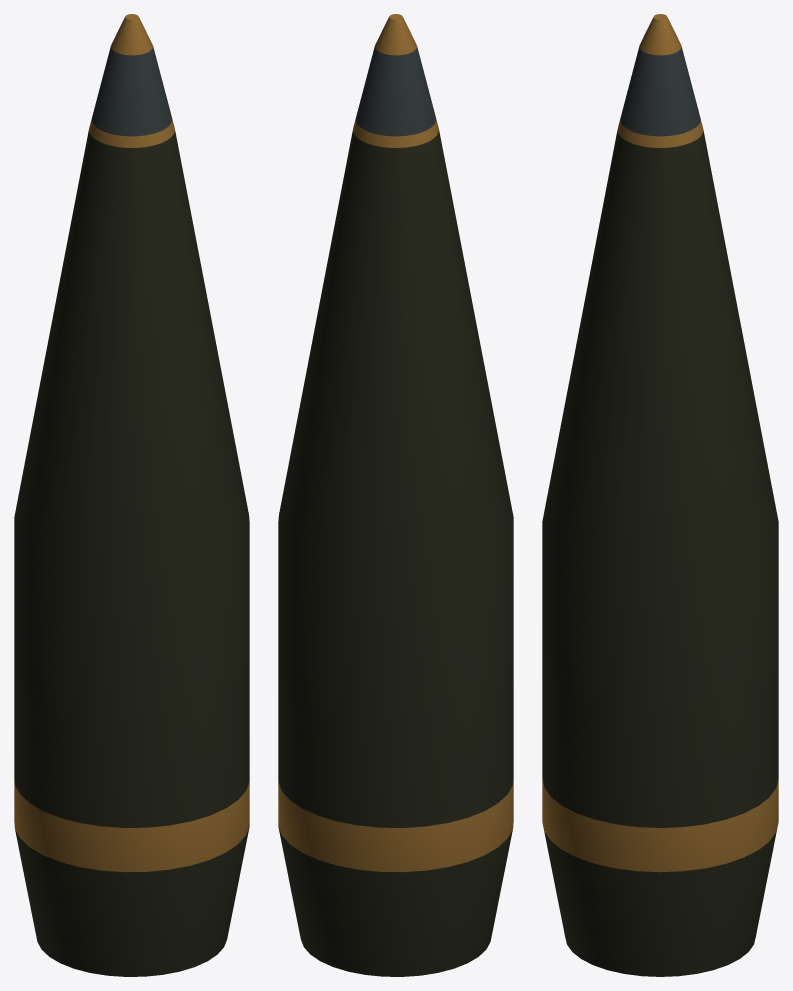
File: shell.fbx
The picture shows the model from 3 angles, left to right: view 1: azimuth 30°, elevation 25°; view 2: azimuth 150°, elevation 25°; view 3: azimuth 270°, elevation 25°; orthographic projection.
Visible parts, largest first — view 1: Cylinder; view 2: Cylinder; view 3: Cylinder.
Boxes of the visible parts, x1=… form: Cylinder: x1=14, y1=14, x2=249, y2=976; Cylinder: x1=278, y1=14, x2=513, y2=976; Cylinder: x1=542, y1=14, x2=778, y2=976.
Bounding box in the file's own units: 104 × 449 × 104.
